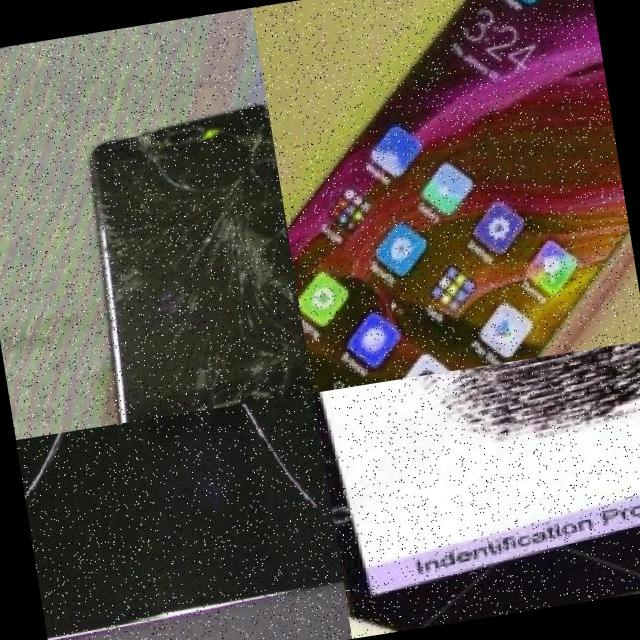scratch: (229, 392, 332, 531), (15, 428, 93, 514)
screen crack: (94, 94, 312, 419)
